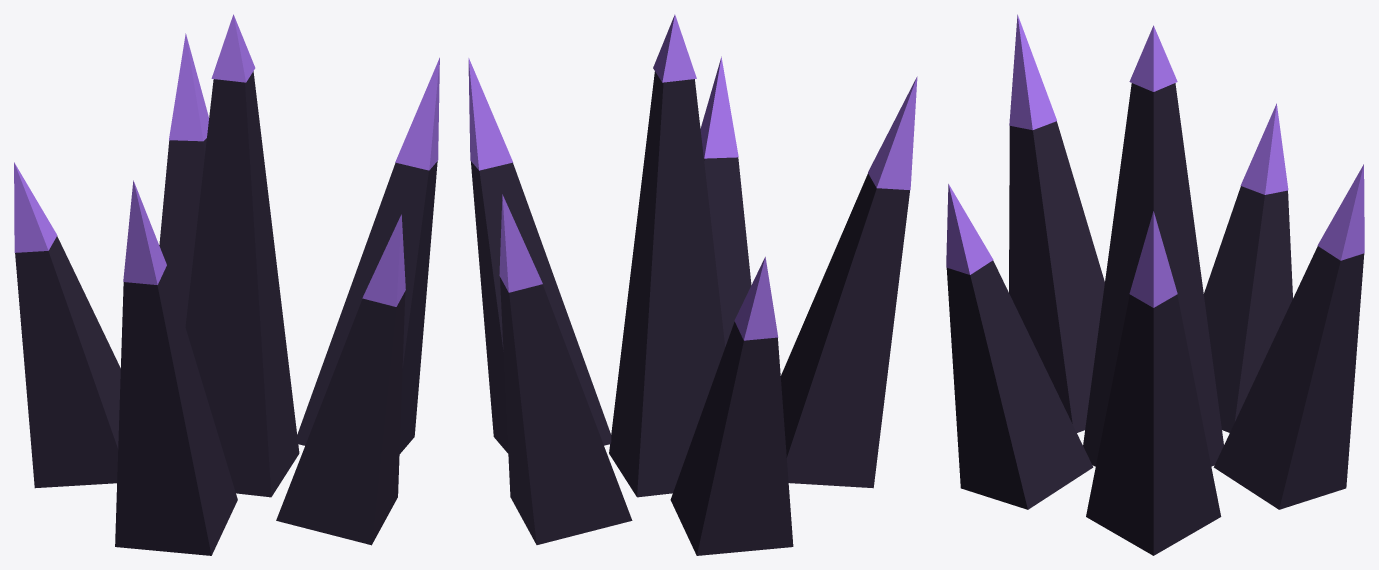
Rendered from env_r16_void_spike_cluster.glb.
3 renders of one model, left to right at view 1: azimuth 30°, elevation 25°; view 2: azimuth 150°, elevation 25°; view 3: azimuth 270°, elevation 25°, orthographic. The views are drawn at different scales.
Parts seen in each view (by area): view 1: env_r16_void_spike_cluster; view 2: env_r16_void_spike_cluster; view 3: env_r16_void_spike_cluster.
Part boxes in pixels (box(x1,y1,x2,y2)): env_r16_void_spike_cluster: box(14, 14, 439, 555); env_r16_void_spike_cluster: box(468, 14, 917, 555); env_r16_void_spike_cluster: box(946, 14, 1364, 555).
Size of the model in its own units: 1.7 by 2 by 1.7.
Materials: 1 (1 with a texture image).
